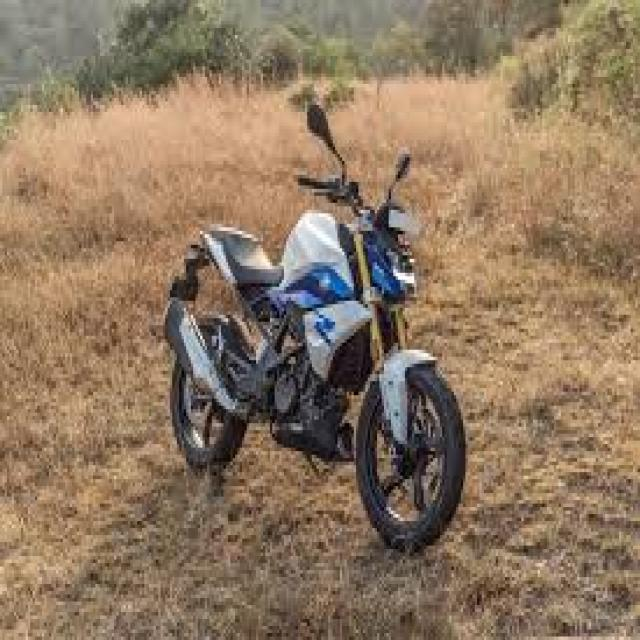Bike: (163, 102, 467, 554)
